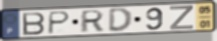9: (146, 7, 164, 31)
B: (21, 11, 47, 36)
D: (107, 7, 134, 33)
P: (46, 11, 72, 36)
R: (79, 9, 106, 34)
Z: (169, 5, 195, 31)
